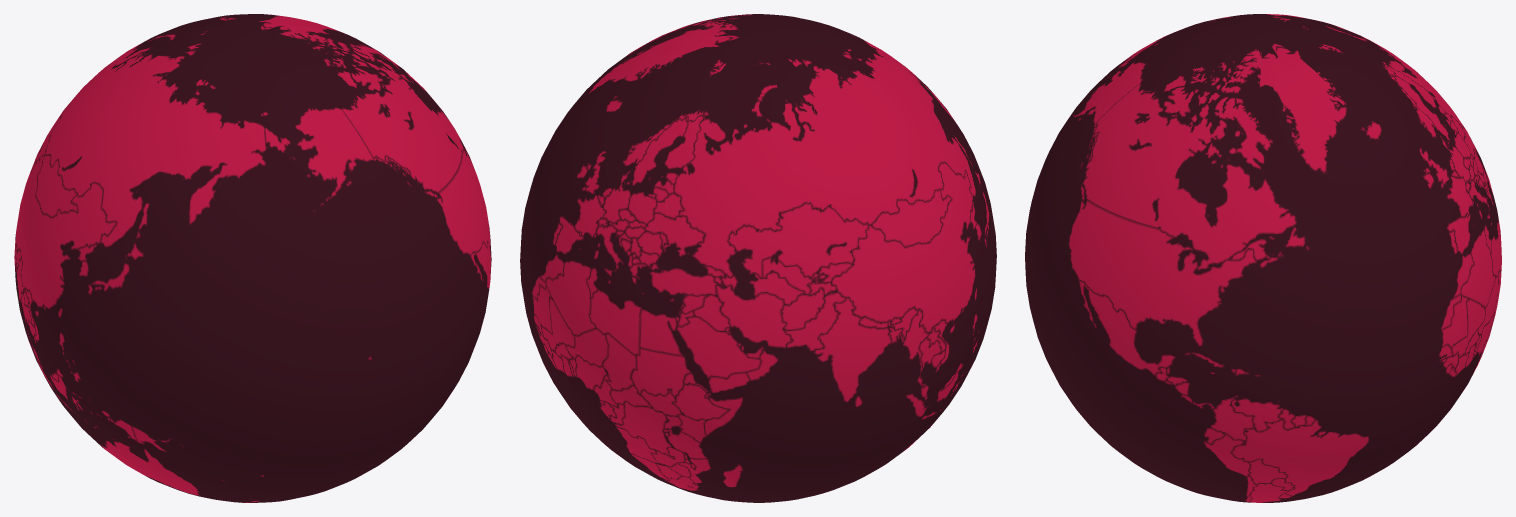
Rendered from earth.glb.
3 renders of one model, left to right at view 1: azimuth 30°, elevation 25°; view 2: azimuth 150°, elevation 25°; view 3: azimuth 270°, elevation 25°, orthographic.
Parts seen in each view (by area): view 1: Sphere.002; view 2: Sphere.002; view 3: Sphere.002.
Boxes of the visible parts, bbox=[...] form: Sphere.002: bbox=[14, 14, 491, 502]; Sphere.002: bbox=[520, 14, 996, 502]; Sphere.002: bbox=[1025, 14, 1501, 502].
Size of the model in its own units: 2.4 by 2.49 by 2.4.
Materials: 1 (1 with a texture image).
